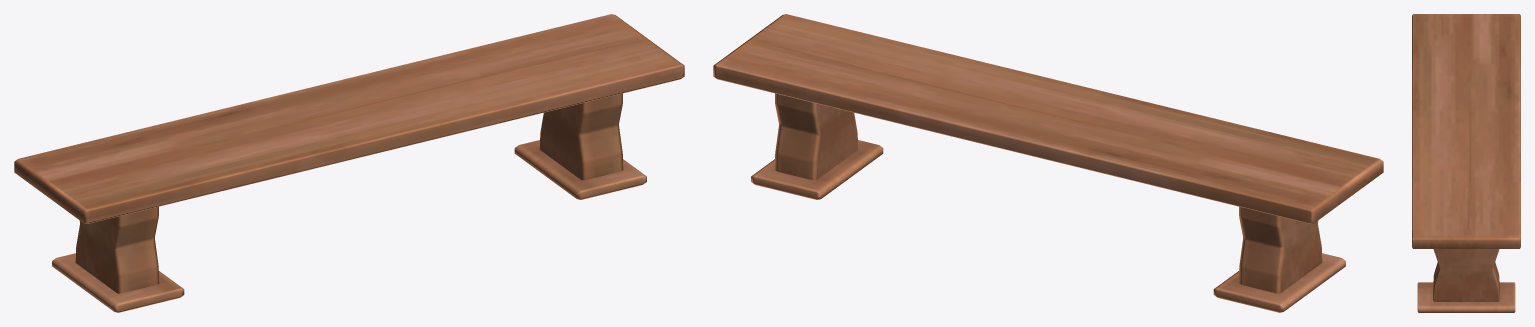
The model's file is MuZhuo.fbx.
3 views of the same model, side by side, from view 1: azimuth 30°, elevation 25°; view 2: azimuth 150°, elevation 25°; view 3: azimuth 270°, elevation 25° (orthographic). The views are drawn at different scales.
Parts seen in each view (by area): view 1: MuZhuo; view 2: MuZhuo; view 3: MuZhuo.
Part boxes in pixels (bbox=[...]): MuZhuo: bbox=[14, 14, 684, 312]; MuZhuo: bbox=[713, 14, 1383, 312]; MuZhuo: bbox=[1412, 14, 1520, 312].
Bounding box in the file's own units: 280 × 50.9 × 56.76.
